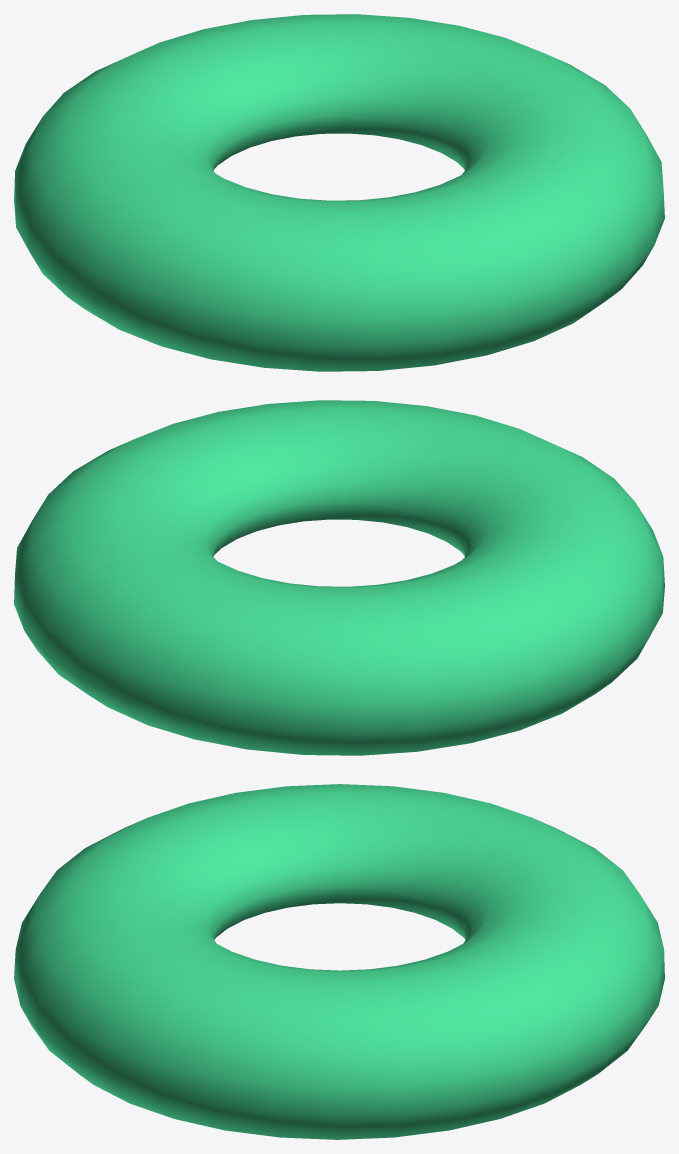
Rendered from Donut_Icing_04.fbx.
3 views of the same model, one above another, from view 1: azimuth 30°, elevation 25°; view 2: azimuth 150°, elevation 25°; view 3: azimuth 270°, elevation 25° (orthographic).
Parts seen in each view (by area): view 1: Donut_Icing_04_LOD0; view 2: Donut_Icing_04_LOD0; view 3: Donut_Icing_04_LOD0.
Boxes of the visible parts, left/top/right/bottom form: Donut_Icing_04_LOD0: left=14, top=14, right=664, bottom=371; Donut_Icing_04_LOD0: left=14, top=400, right=664, bottom=755; Donut_Icing_04_LOD0: left=14, top=784, right=664, bottom=1139.
Size of what is drawn, in the model's own units: 554 by 119 by 554.
